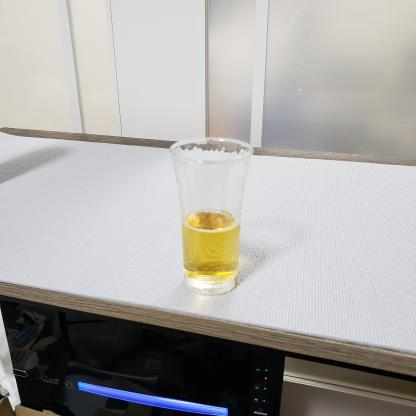glass: (164, 132, 274, 305)
